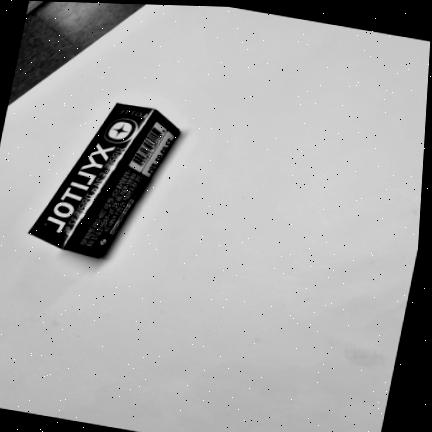gum_green: (29, 103, 178, 257)
